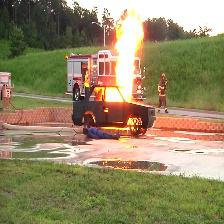fire: (106, 6, 148, 105)
